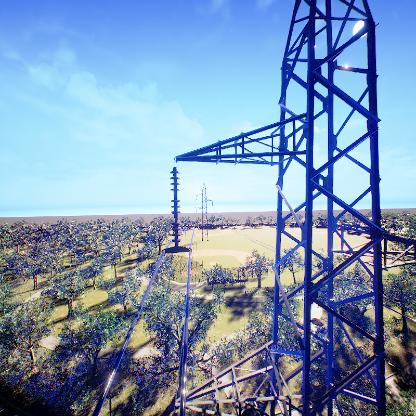insulator: (170, 165, 182, 248)
